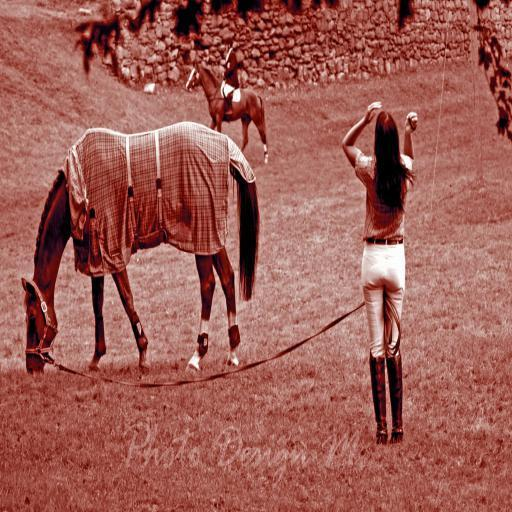horse: (20, 121, 260, 381), (186, 56, 268, 166)
